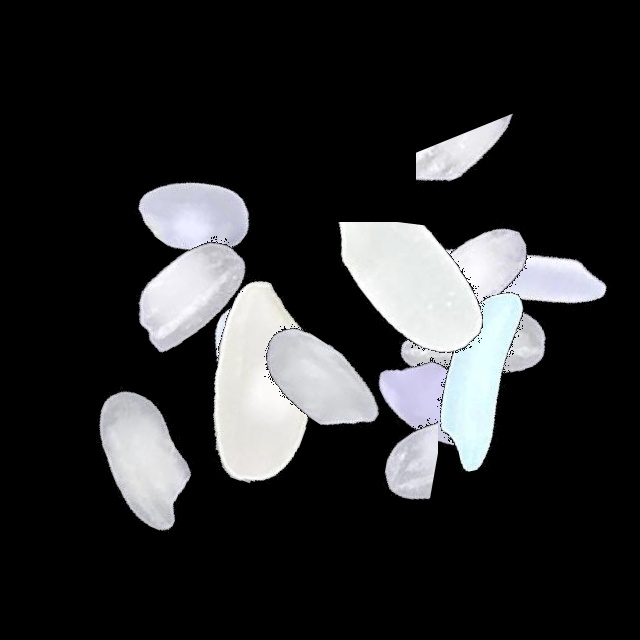Broken: (181, 240, 351, 490), (275, 222, 525, 388), (406, 195, 568, 445), (416, 68, 537, 318), (333, 323, 438, 573), (72, 201, 155, 451)
Full: (345, 216, 595, 466), (384, 152, 634, 402), (14, 334, 264, 584), (312, 279, 562, 529), (361, 258, 611, 508), (68, 89, 318, 339), (135, 260, 385, 510), (68, 167, 318, 417), (196, 255, 446, 505)
